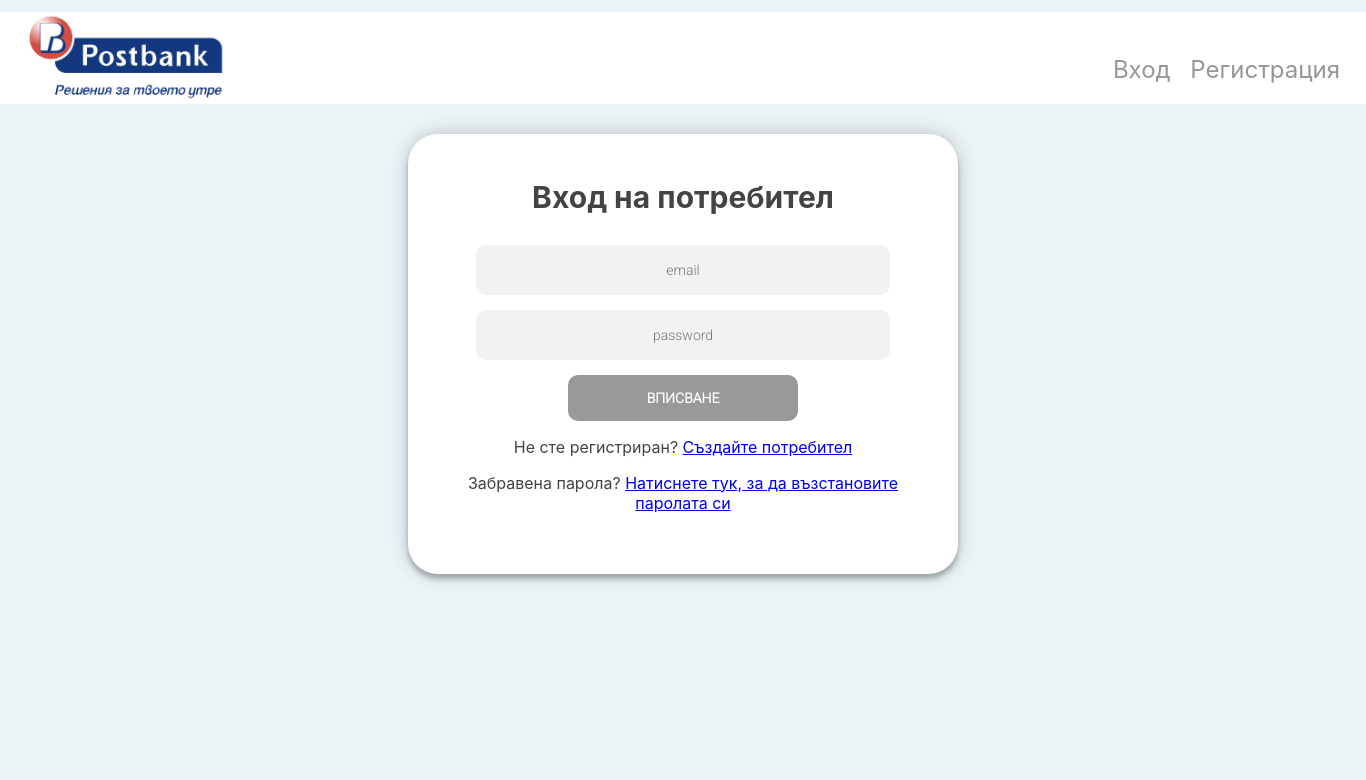
it: Check login form upon submit with password that doesn't match the requested format
Step 1. Type "ndimov@postbank.bg" into the field with placeholder "email" → (683, 270), box [476,245,890,295]
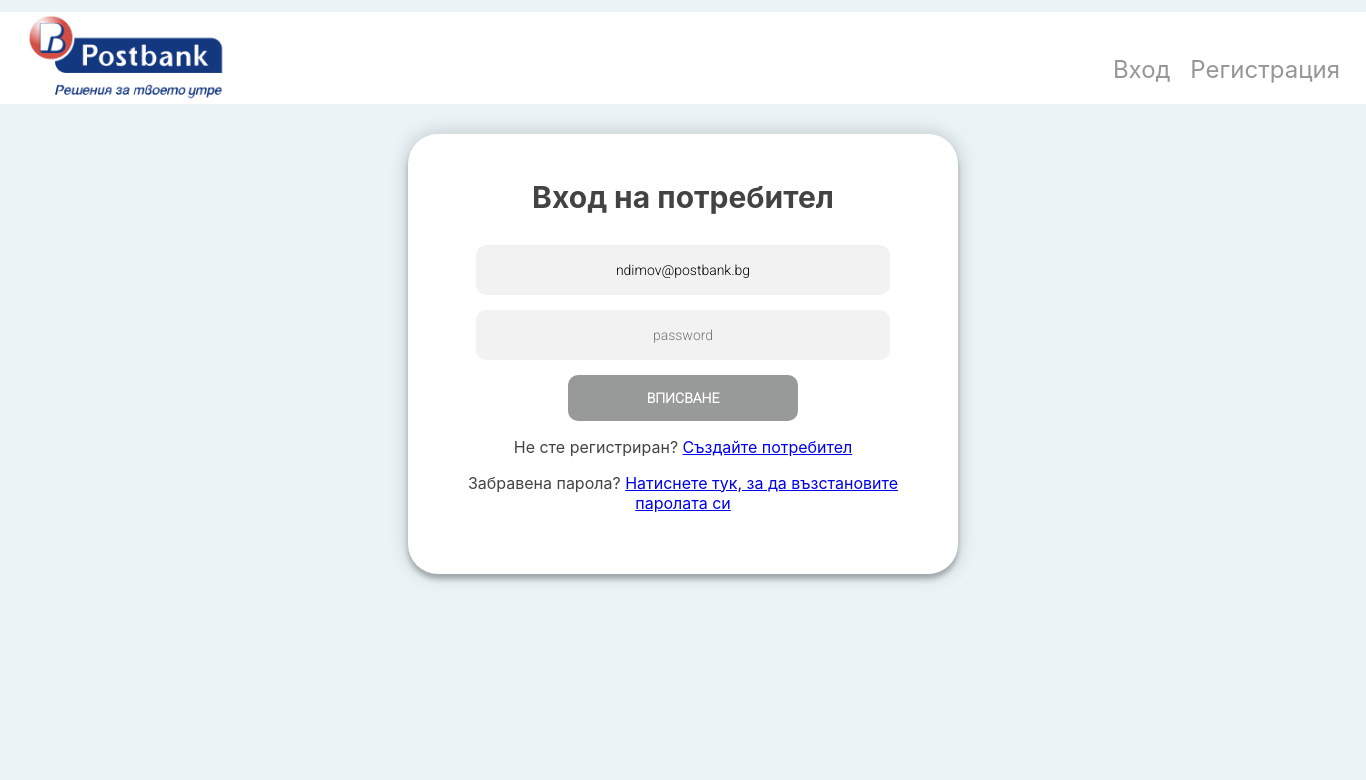
Step 2. Type "12" into the password field with placeholder "password" → (683, 335), box [476,310,890,360]
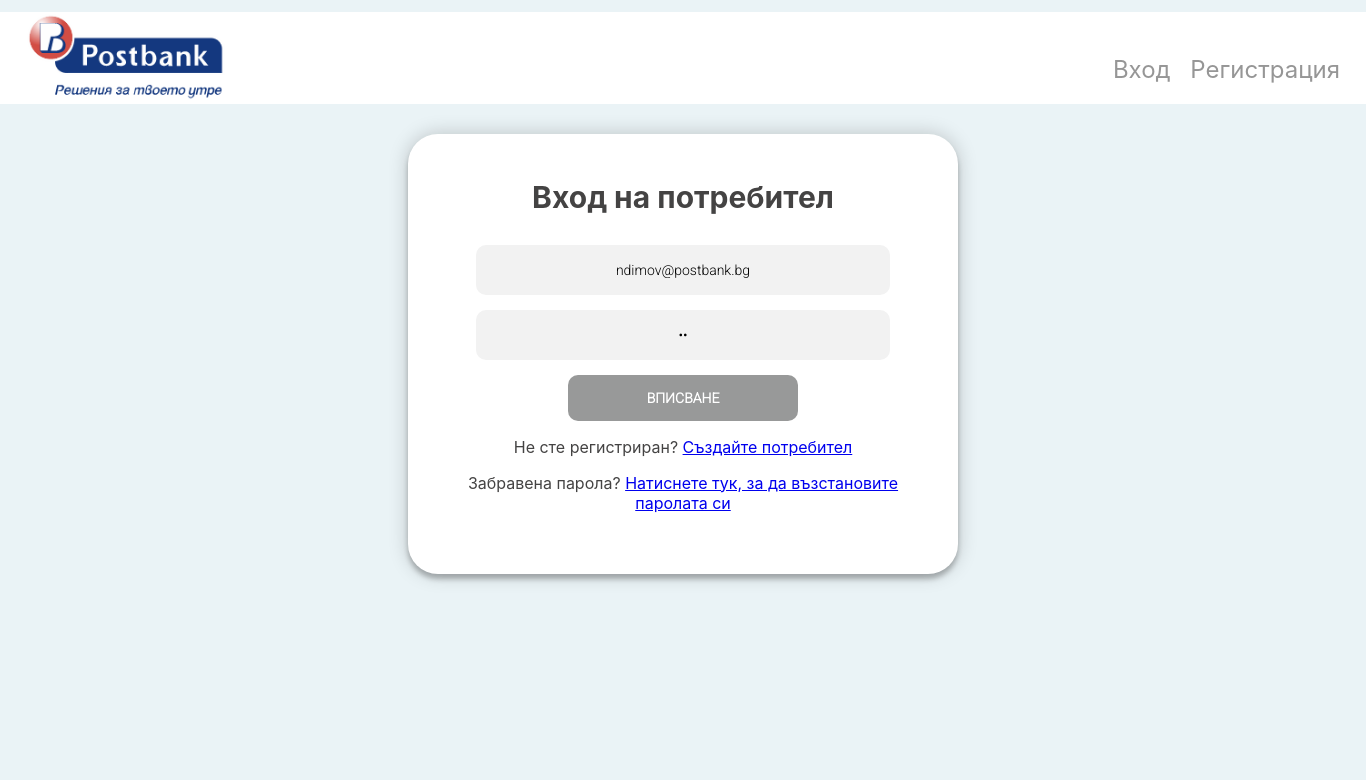
Step 3. Click the button "Вписване" → (683, 398), box [568,375,798,421]
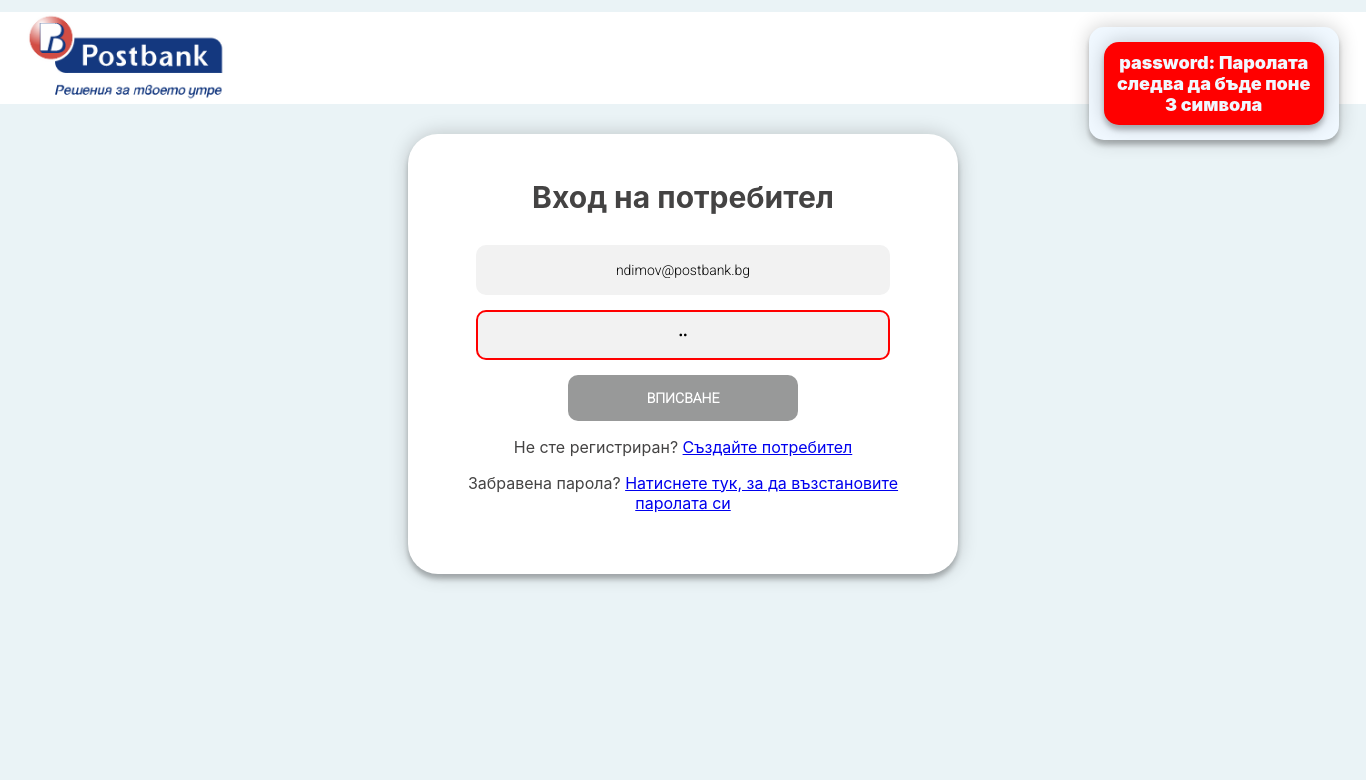
Check: the text "password: Паролата следва да бъде поне 3 символа" is shown, box [1114,52,1314,115]
